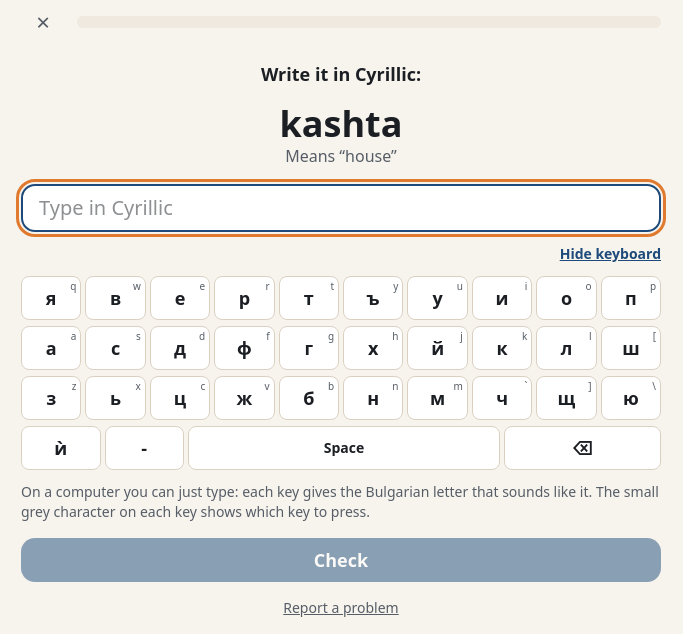
Test: ExerciseSession › types with phonetic typing from a Latin keyboard
The width and height of the screenshot is (683, 634).
Type "kyo]a" into the field named "Your answer" at (341, 208), box [21,184,661,232]
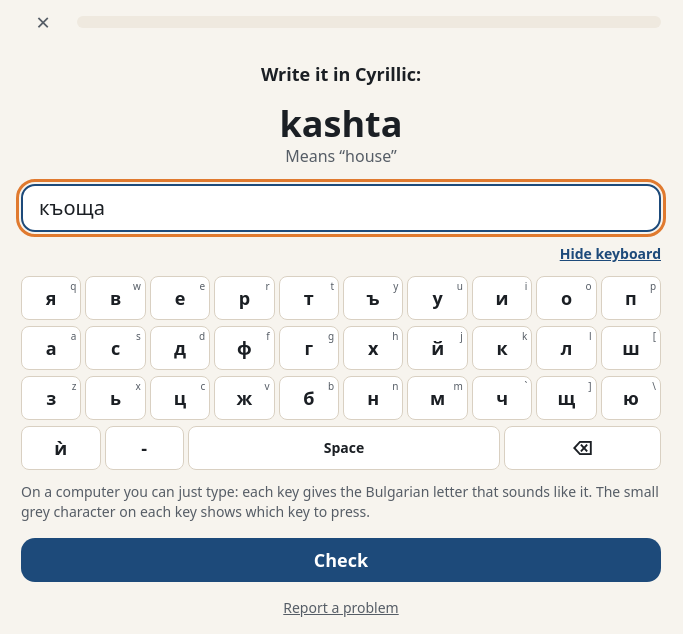
Now the field named "Your answer" holds "къоща", box [21,184,661,232]
Press Backspace Backspace Backspace
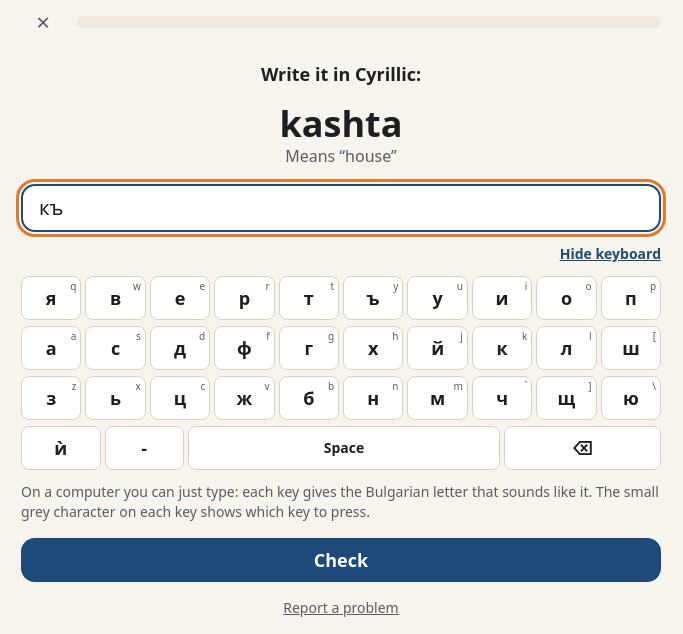
Type "]a" into the field named "Your answer" at (341, 208), box [21,184,661,232]
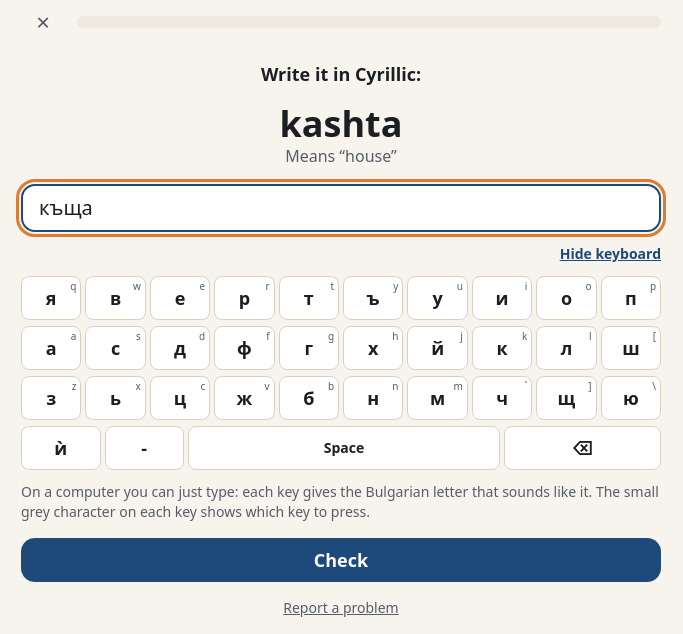
Now the field named "Your answer" holds "къща", box [21,184,661,232]
Press Enter
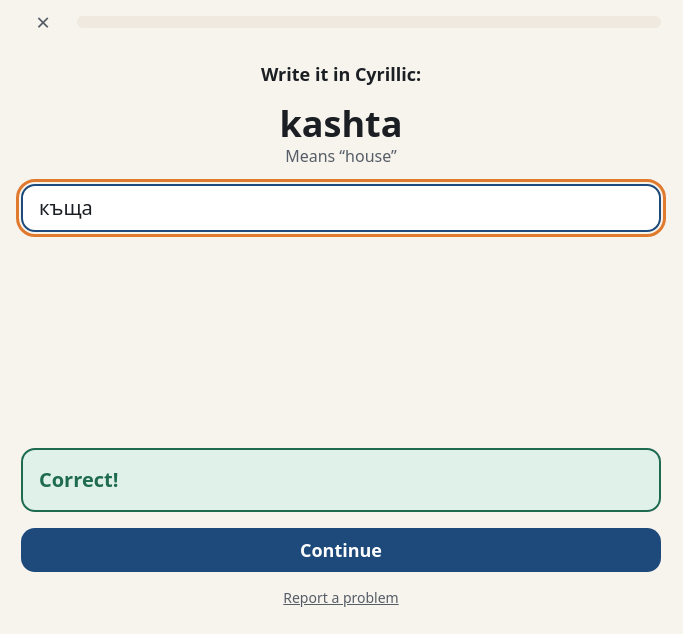
Now the text "Correct!" is shown, box [39,466,118,493]
